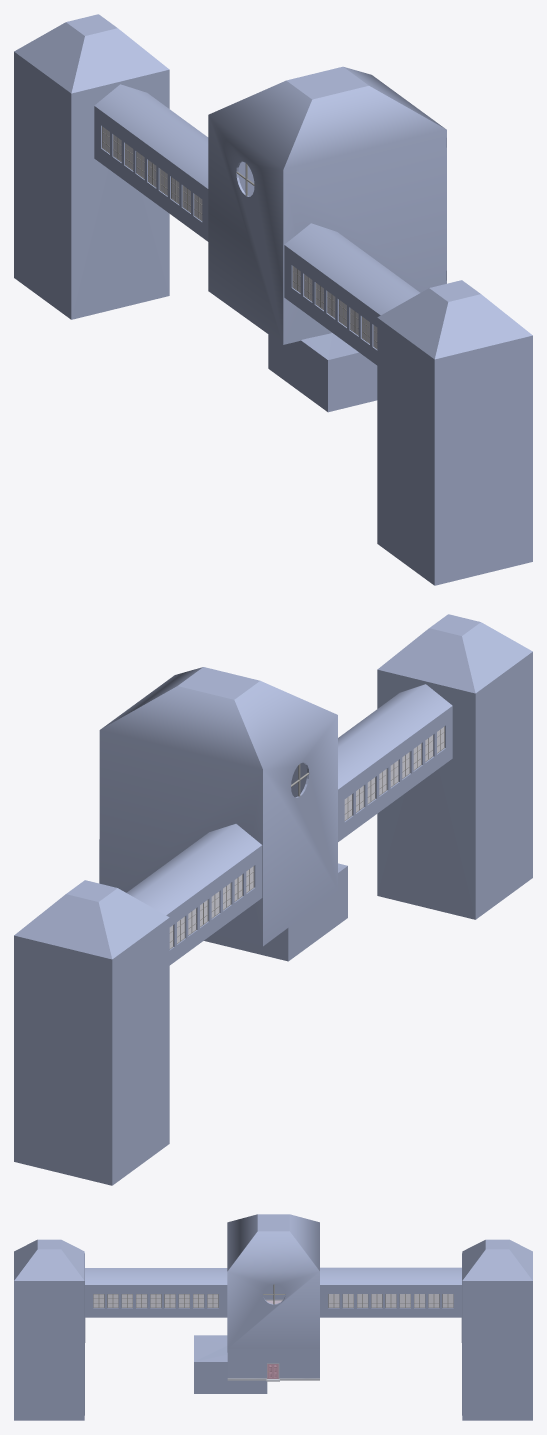
File: fitcherLevel4.fbx
3 views of the same model, one above another, from view 1: azimuth 30°, elevation 25°; view 2: azimuth 150°, elevation 25°; view 3: azimuth 270°, elevation 25° (orthographic). The views are drawn at different scales.
Visible parts, largest first — view 1: polySurface365, polySurface381, polySurface364, polySurface362, pCube115, polySurface311, polySurface274; view 2: polySurface365, polySurface381, polySurface362, polySurface364, pCube115, polySurface274, polySurface311; view 3: polySurface365, polySurface381, polySurface364, polySurface362, pCube115, polySurface272, polySurface313.
Boxes of the visible parts, x1,y1,x2,y2 form: polySurface365: (14, 14, 532, 585); polySurface381: (208, 66, 446, 344); polySurface364: (94, 84, 208, 241); polySurface362: (284, 223, 420, 365); pCube115: (268, 333, 377, 412); polySurface311: (102, 126, 202, 220); polySurface274: (293, 266, 377, 348); polySurface365: (14, 614, 532, 1185); polySurface381: (99, 667, 337, 946); polySurface362: (338, 684, 452, 841); polySurface364: (126, 824, 262, 965); pCube115: (204, 863, 347, 961); polySurface274: (344, 727, 444, 820); polySurface311: (169, 866, 253, 948); polySurface365: (14, 1239, 532, 1420); polySurface381: (227, 1214, 319, 1380); polySurface364: (320, 1267, 461, 1317); polySurface362: (85, 1268, 227, 1317); pCube115: (194, 1335, 267, 1393); polySurface272: (93, 1294, 217, 1307); polySurface313: (329, 1294, 453, 1307).
Size of the model in its own units: 47.26 by 77.23 by 182.
